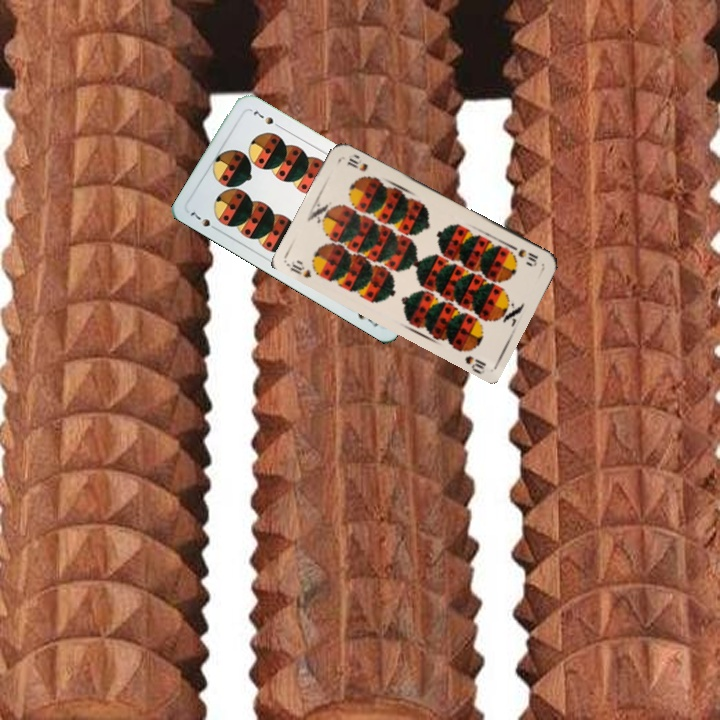S10: (507, 241, 541, 267), (283, 256, 314, 280)
S7: (186, 208, 222, 234)
